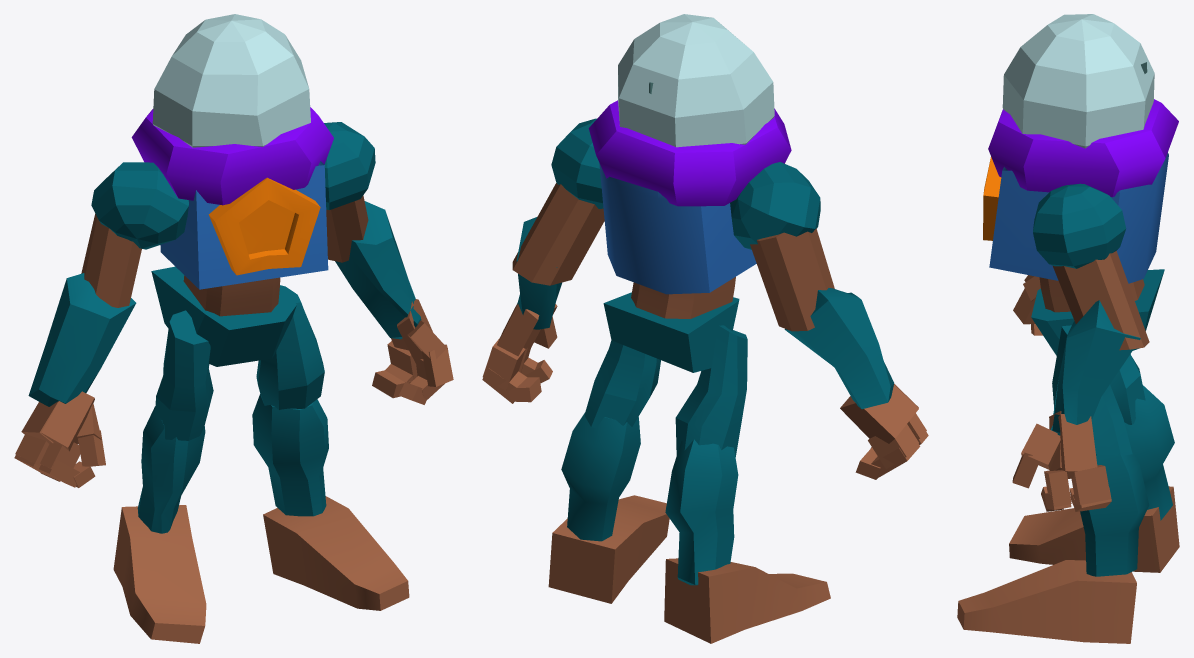
The model's file is FishIdle.fbx.
The picture shows the model from 3 angles, left to right: view 1: azimuth 30°, elevation 25°; view 2: azimuth 150°, elevation 25°; view 3: azimuth 270°, elevation 25°; orthographic projection.
Parts seen in each view (by area): view 1: Bubble, pasted__Foot, Collar, Shoulder (×2), pasted__Foot1, pasted__ForeArm, Valve, pasted__pCube7, Chest, Pelvis, ForeArm, UpperArm (×2) (+10 smaller); view 2: Bubble, Chest, UpperArm (×2), Collar, pasted__Foot1, Shoulder (×2), pasted__pCube40, pasted__Foot, pasted__pCube7, pasted__ForeArm, pasted__UpperLeg1, Pelvis (+7 smaller); view 3: Bubble, pasted__Foot, Collar, Chest, Shoulder, pasted__Foot1, ForeArm, pasted__pCube7, UpperArm, pasted__pCube40, pasted__UpperLeg, Pelvis (+8 smaller).
Part boxes in pixels (x1=…): Bubble: x1=152, y1=14, x2=310, y2=147; pasted__Foot: x1=263, y1=496, x2=409, y2=610; Collar: x1=131, y1=107, x2=333, y2=205; Shoulder (×2): x1=91, y1=122, x2=375, y2=249; pasted__Foot1: x1=113, y1=505, x2=206, y2=643; pasted__ForeArm: x1=28, y1=273, x2=136, y2=406; Valve: x1=208, y1=177, x2=320, y2=275; pasted__pCube7: x1=252, y1=394, x2=328, y2=516; Chest: x1=160, y1=161, x2=328, y2=289; Pelvis: x1=151, y1=266, x2=296, y2=366; ForeArm: x1=335, y1=201, x2=421, y2=339; UpperArm (×2): x1=81, y1=195, x2=368, y2=307; Bubble: x1=618, y1=14, x2=774, y2=147; Chest: x1=599, y1=163, x2=756, y2=294; UpperArm (×2): x1=512, y1=183, x2=834, y2=331; Collar: x1=588, y1=100, x2=791, y2=206; pasted__Foot1: x1=664, y1=558, x2=830, y2=643; Shoulder (×2): x1=551, y1=118, x2=820, y2=249; pasted__pCube40: x1=665, y1=439, x2=738, y2=585; pasted__Foot: x1=548, y1=495, x2=669, y2=603; pasted__pCube7: x1=561, y1=413, x2=640, y2=541; pasted__ForeArm: x1=784, y1=288, x2=894, y2=409; pasted__UpperLeg1: x1=675, y1=325, x2=747, y2=456; Pelvis: x1=603, y1=292, x2=739, y2=372; Bubble: x1=1002, y1=14, x2=1154, y2=148; pasted__Foot: x1=957, y1=560, x2=1136, y2=643; Collar: x1=988, y1=99, x2=1178, y2=197; Chest: x1=989, y1=152, x2=1168, y2=283; Shoulder: x1=1033, y1=183, x2=1126, y2=268; pasted__Foot1: x1=1009, y1=486, x2=1179, y2=572; ForeArm: x1=1051, y1=300, x2=1140, y2=435; pasted__pCube7: x1=1080, y1=446, x2=1149, y2=576; UpperArm: x1=1053, y1=251, x2=1149, y2=350; pasted__pCube40: x1=1124, y1=385, x2=1174, y2=520; pasted__UpperLeg: x1=1052, y1=325, x2=1132, y2=455; Pelvis: x1=1031, y1=269, x2=1164, y2=355.
Bounding box in the file's own units: 148 × 195 × 68.37.
